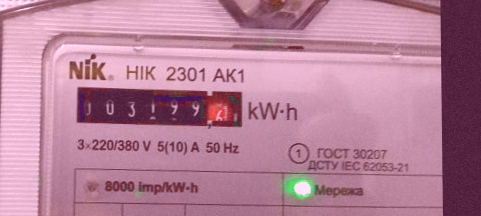0: (80, 95, 92, 117), (102, 95, 115, 115)
1: (146, 95, 157, 114)
3: (125, 98, 136, 117)
6: (214, 106, 224, 122)
9: (168, 95, 179, 116), (189, 97, 200, 116)
screen: (68, 80, 251, 136)
